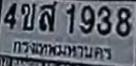1: (66, 3, 74, 32)
3: (96, 5, 110, 34)
4: (3, 1, 16, 28)
8: (115, 6, 130, 36)
9: (79, 4, 94, 33)
A02: (20, 2, 36, 30)
A40: (38, 1, 56, 31)
BKK: (10, 37, 116, 63)
